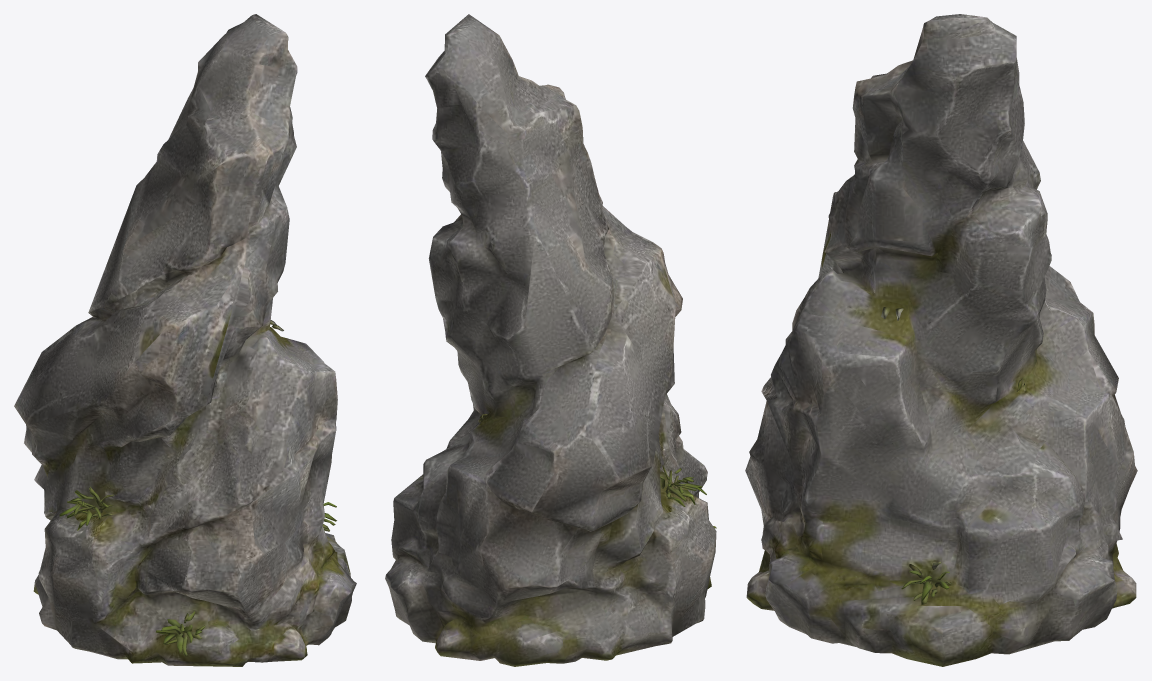
The model's file is prop_da_dung.fa4a8f2f76.glb.
The picture shows the model from 3 angles, left to right: view 1: azimuth 30°, elevation 25°; view 2: azimuth 150°, elevation 25°; view 3: azimuth 270°, elevation 25°; orthographic projection. The views are drawn at different scales.
Visible parts, largest first — view 1: prop_da_dung; view 2: prop_da_dung; view 3: prop_da_dung.
Part boxes in pixels (box(x1,y1,x2,y2)): prop_da_dung: box(14, 14, 356, 666); prop_da_dung: box(385, 14, 716, 666); prop_da_dung: box(745, 14, 1137, 666).
Size of what is drawn, in the model's own units: 2.75 by 4.96 by 2.86.
1 material, 1 textured.
